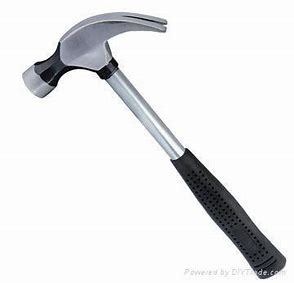martillu: (18, 7, 291, 282)
